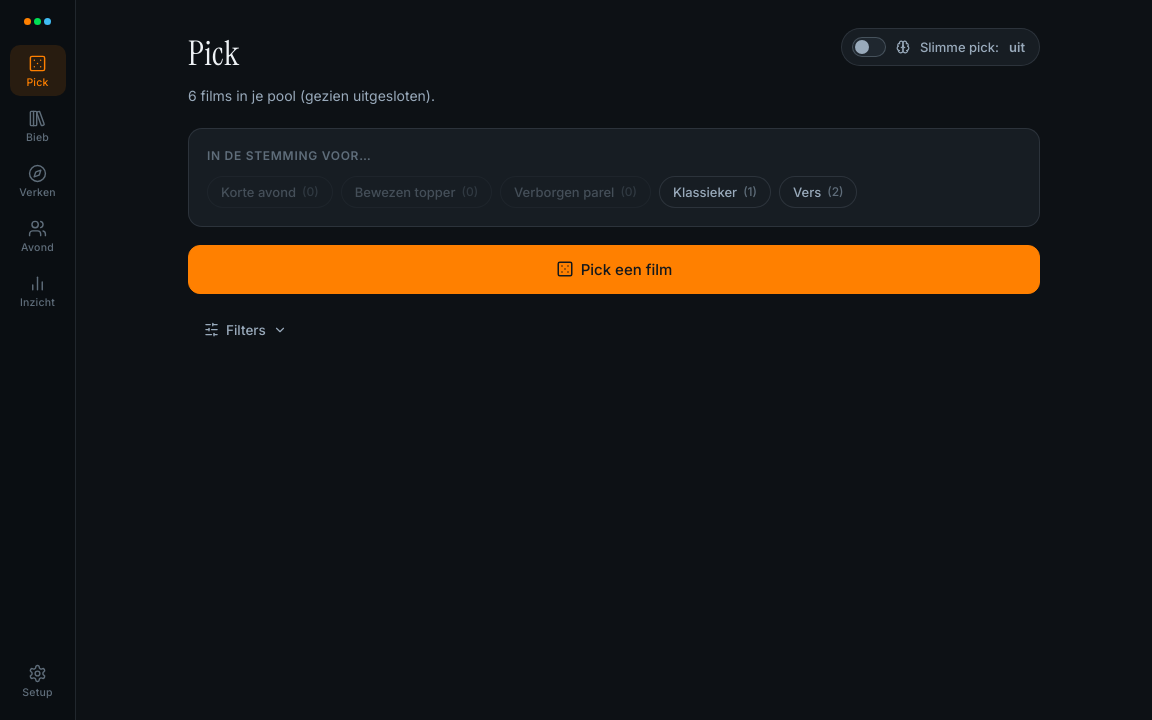
Test: V2 smoke › zoekmachine: criteria worden server-side queryparameters
The image size is (1152, 720).
Click the button labelled "Verken" at (38, 180), box [10,155,66,206]
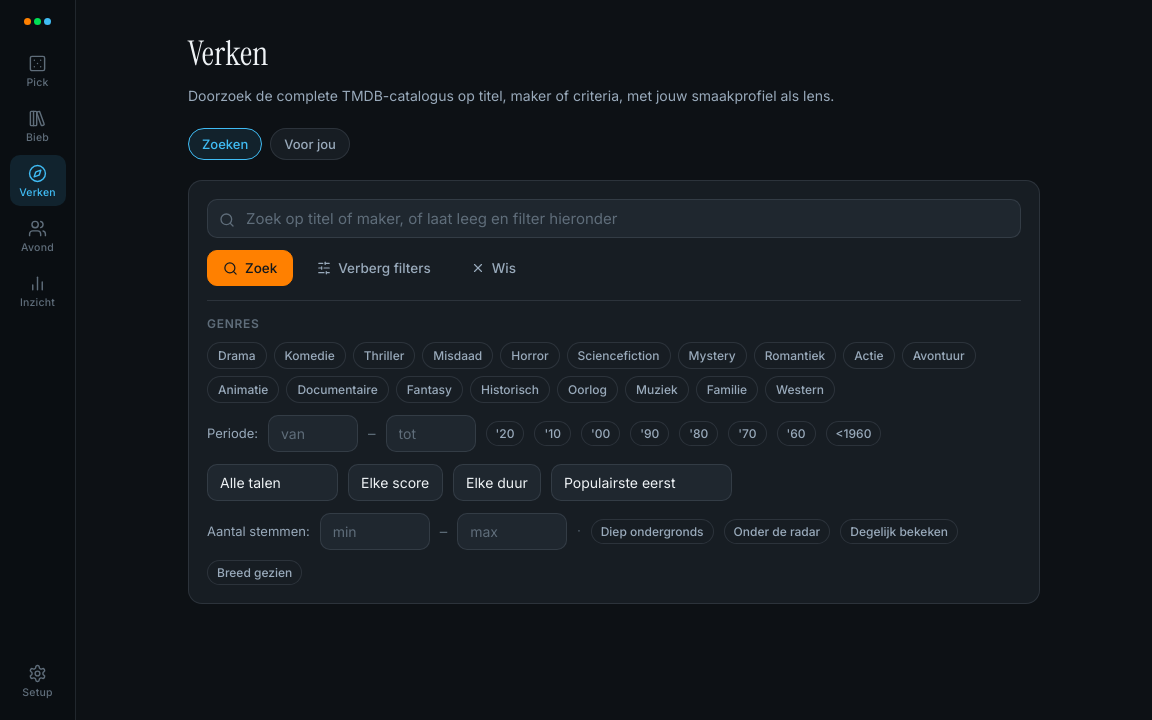
criteria zetten: genre Drama (18) + niet-Engels, geen tekst
Click the button "Drama" at (237, 356), box [207,342,266,369]
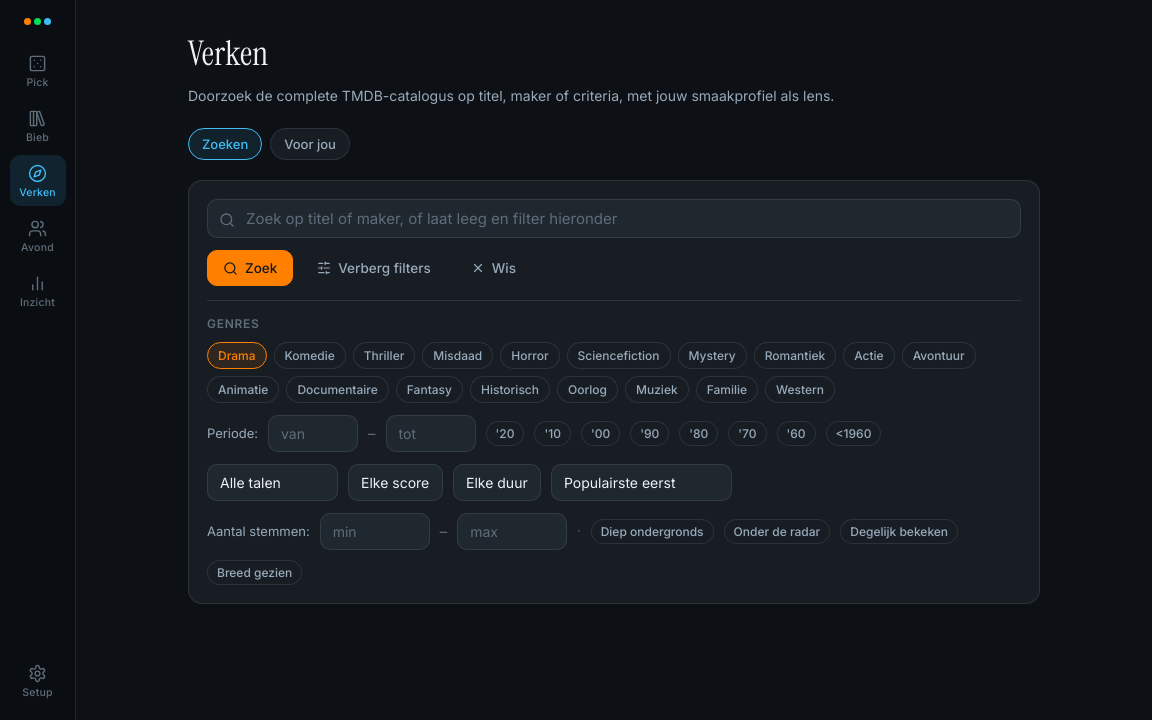
Select "Niet-Engelstalig" in the dropdown named "Taal" at (272, 482), box [207,464,338,501]
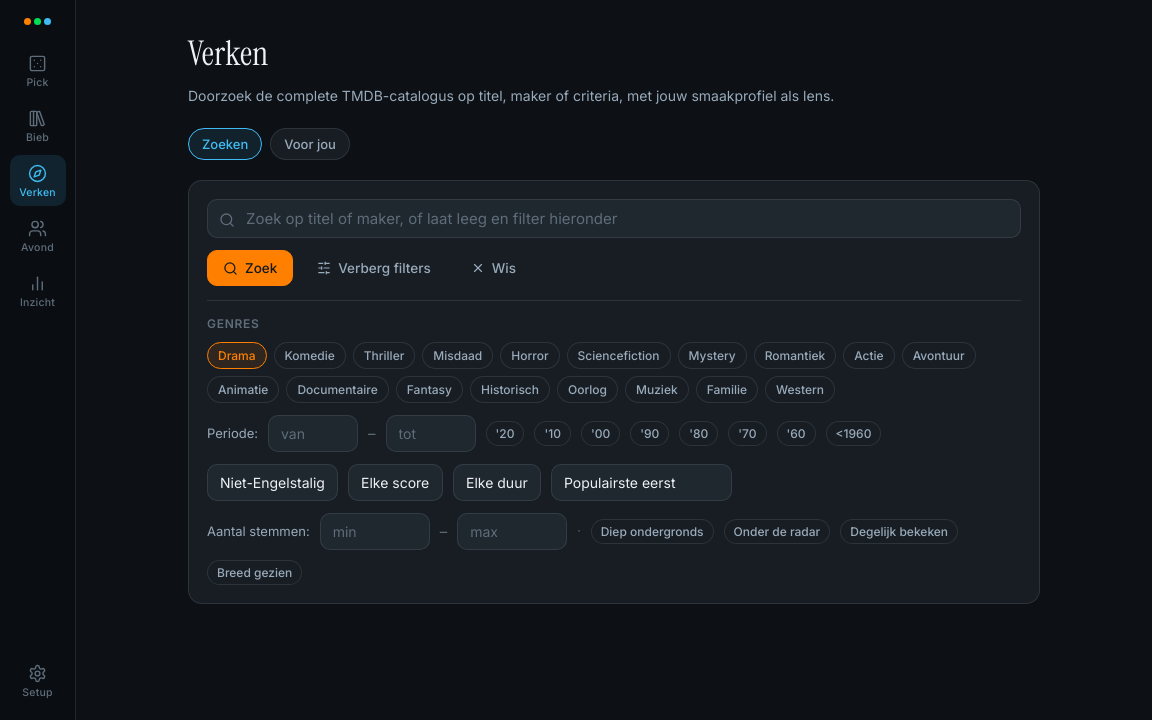
Click the button "Zoek" at (250, 268), box [207,250,293,286]
(page scrolled)
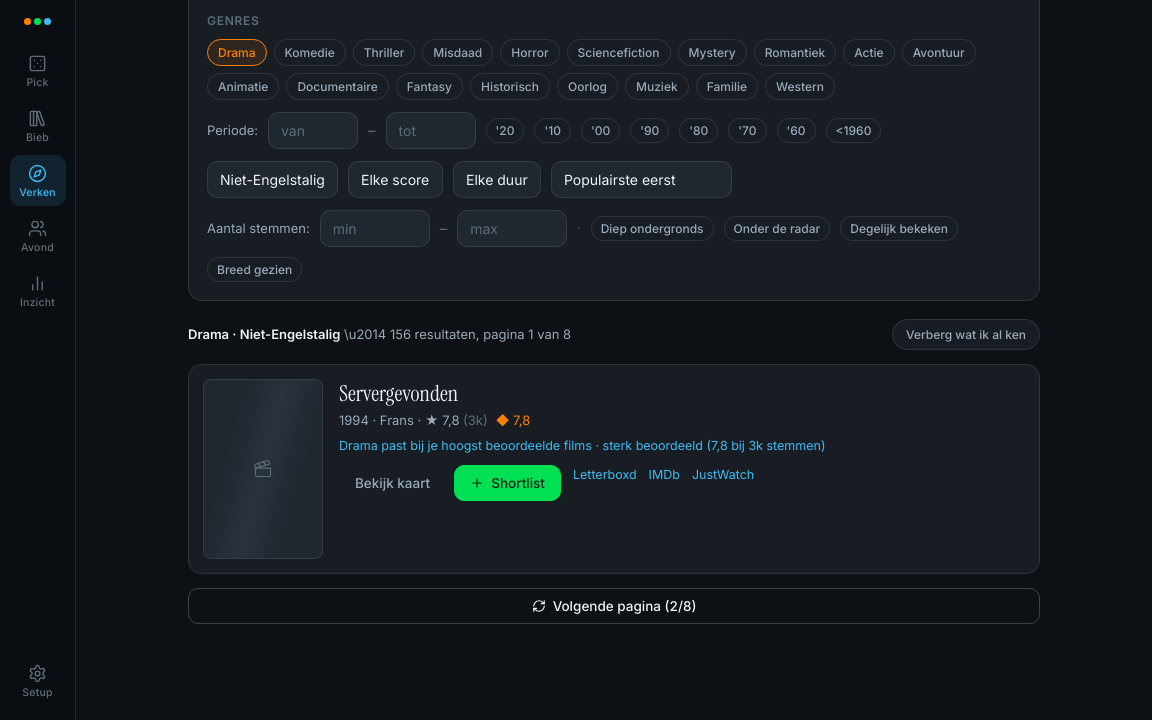
Expected: the heading "Servergevonden" is shown, [339,379,458,408]
Expected: the text "156 resultaten" is shown, [390,326,571,342]
Expected: the text "pagina 1 van 8" is shown, [390,326,571,342]
